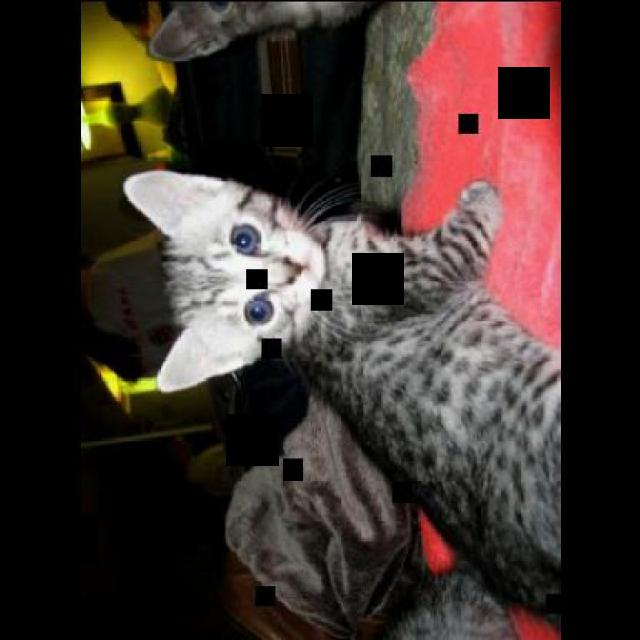unauthorized: (122, 166, 560, 639)
